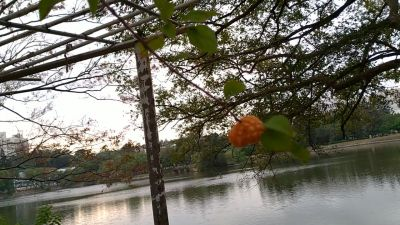eggs: (226, 114, 265, 148)
